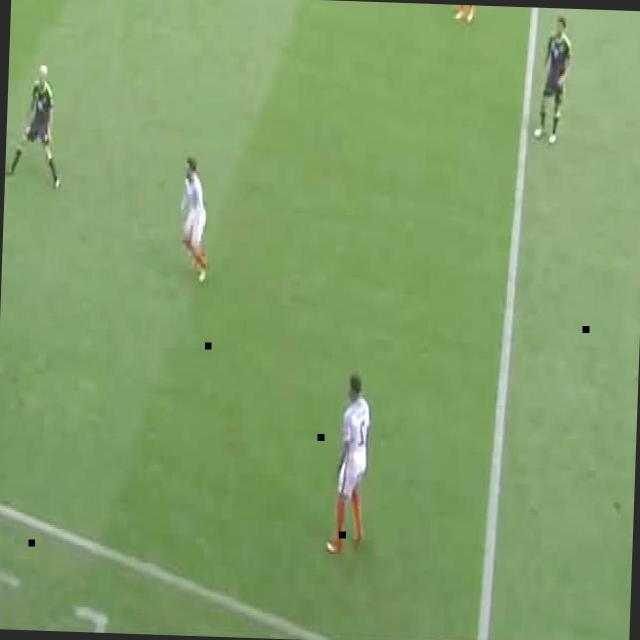player-white: (324, 372, 372, 558), (5, 60, 64, 188), (533, 16, 573, 145), (176, 153, 212, 285), (452, 4, 488, 27)
